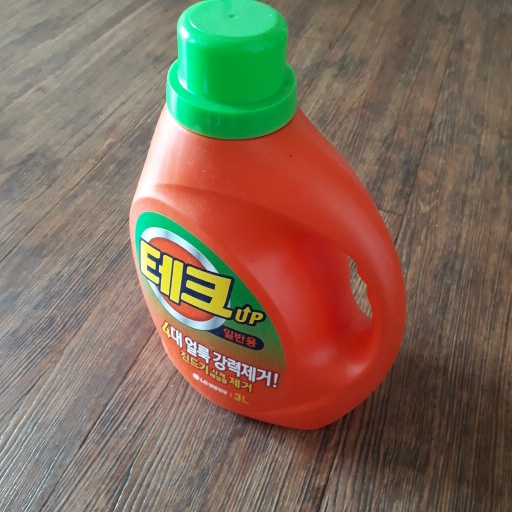Plastic_1: (131, 4, 407, 435)
